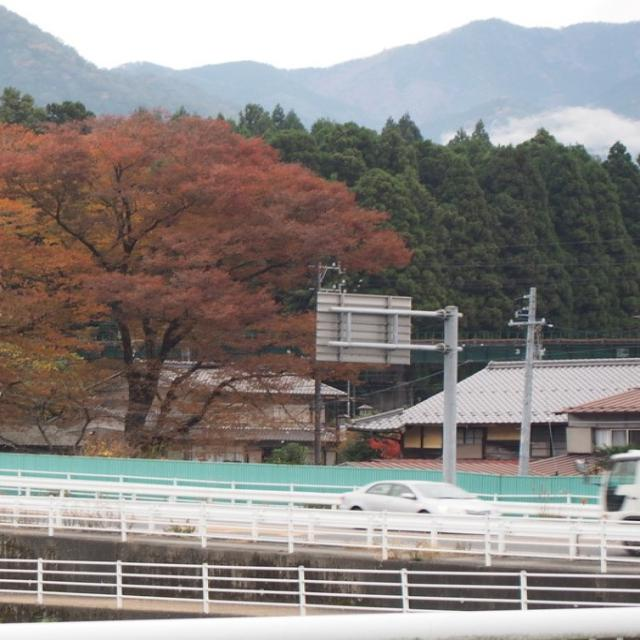zelkova: (0, 105, 414, 459)
